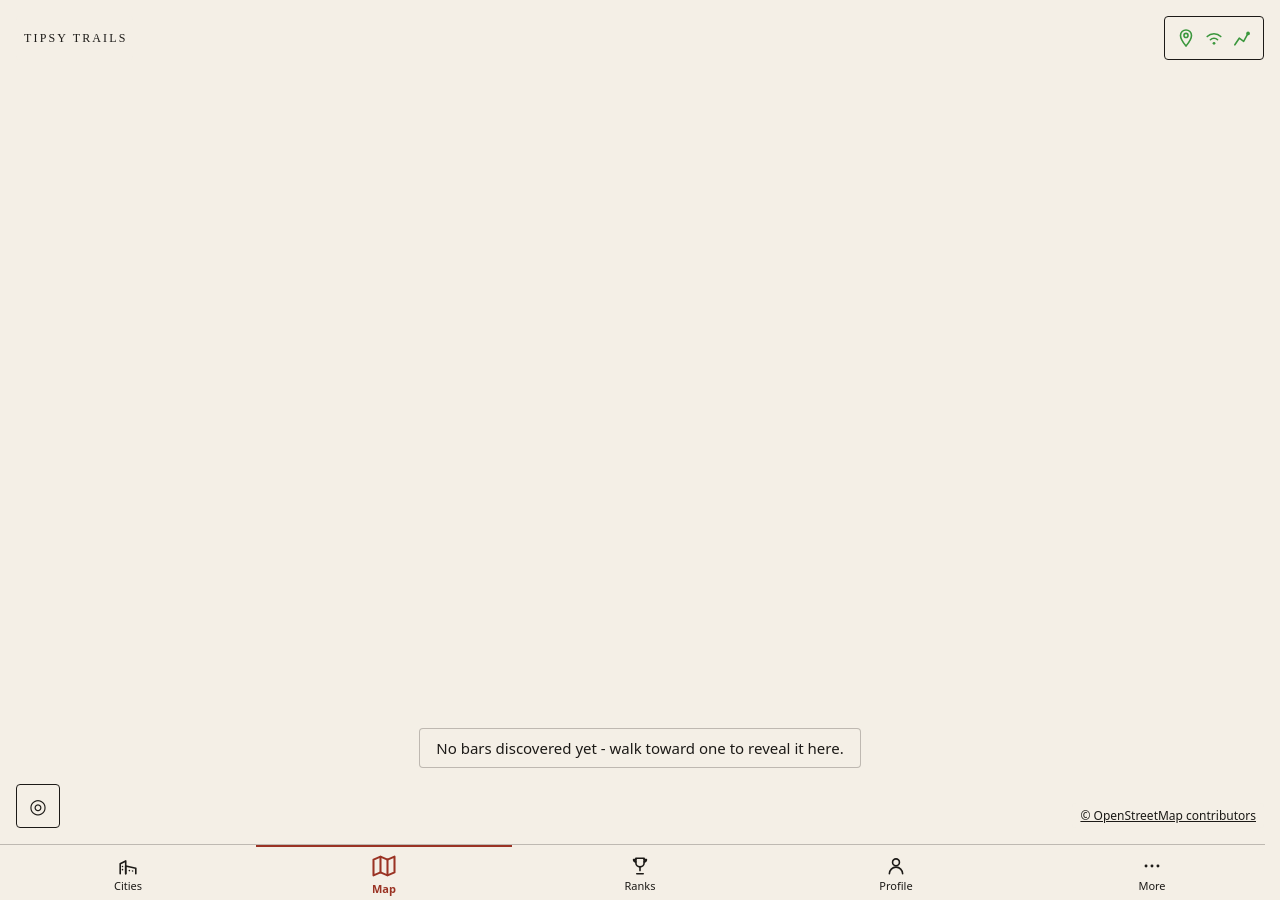
Test: the suggest screen's map picker (SPEC.md Section 11.3) › opens at the last position the map screen accepted
Click the button "More" at (1152, 872), box [1024,845,1279,899]
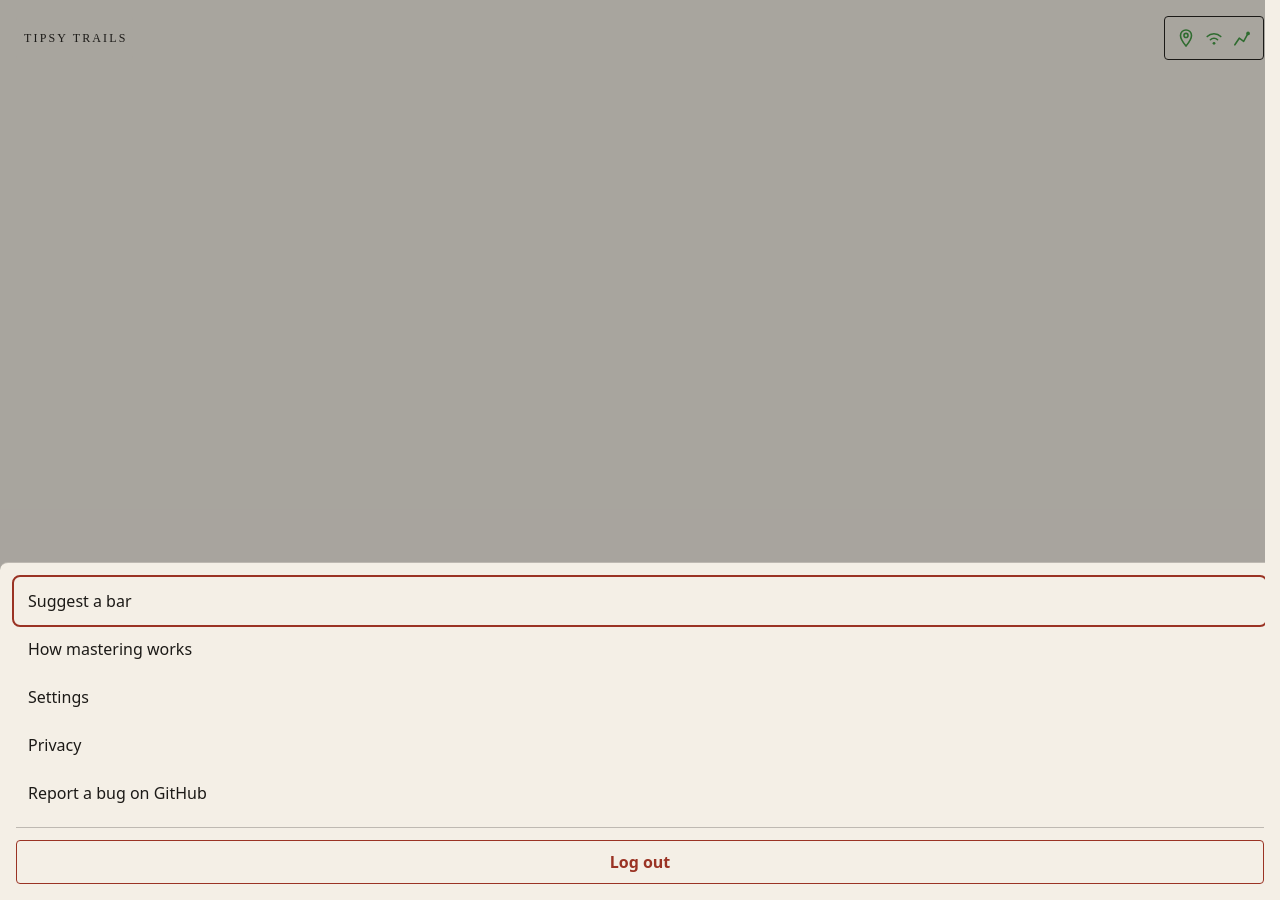
Click the link "Suggest a bar" at (80, 601), box [28,590,132,612]
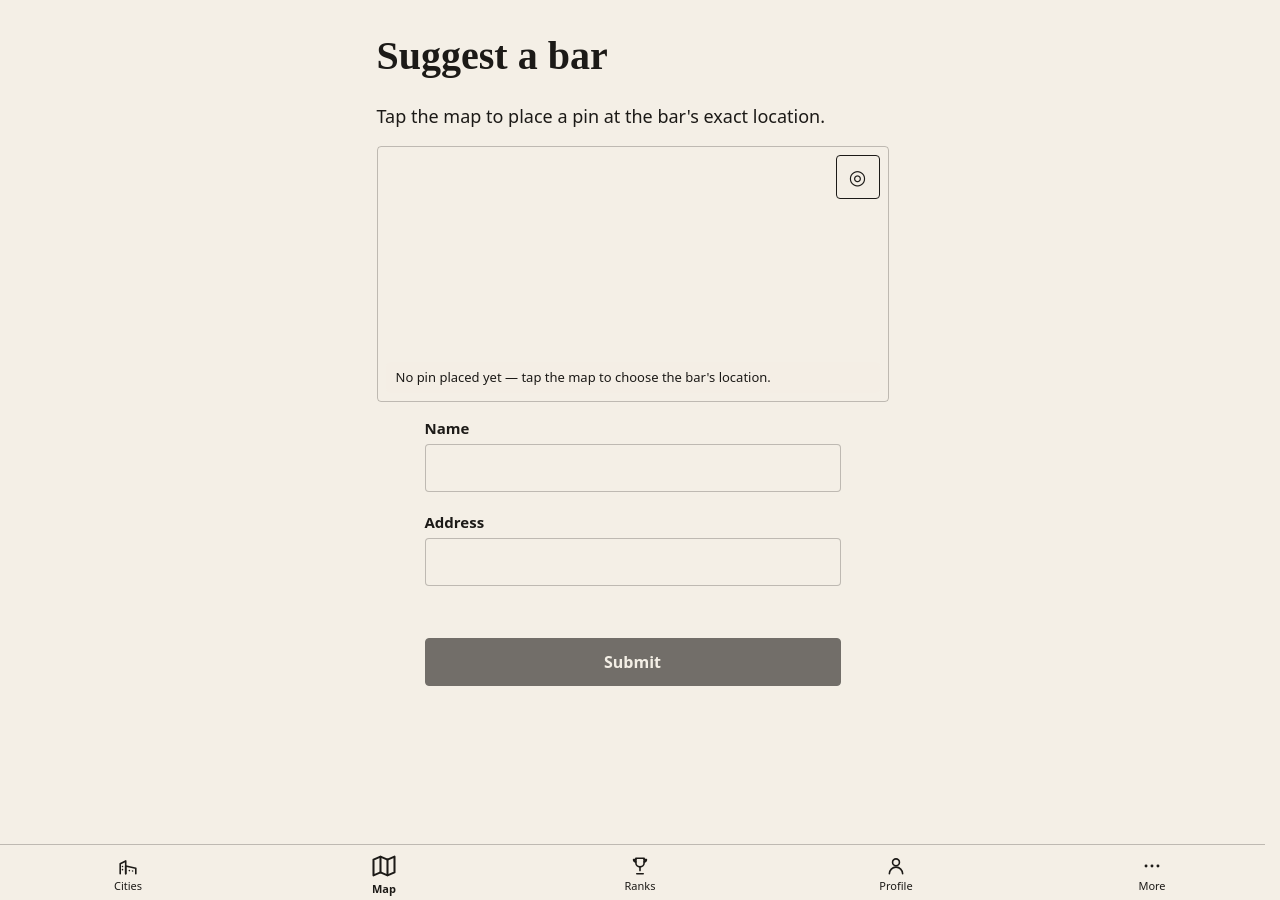
Now the element with class "map-picker" is shown, box [376,146,888,402]
